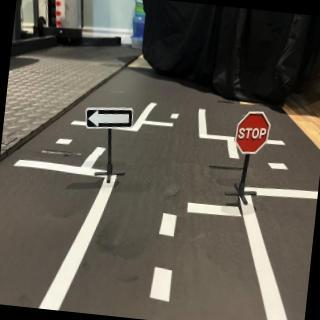sign_oneway_left: (84, 102, 136, 135)
sign_stop: (234, 111, 273, 156)
